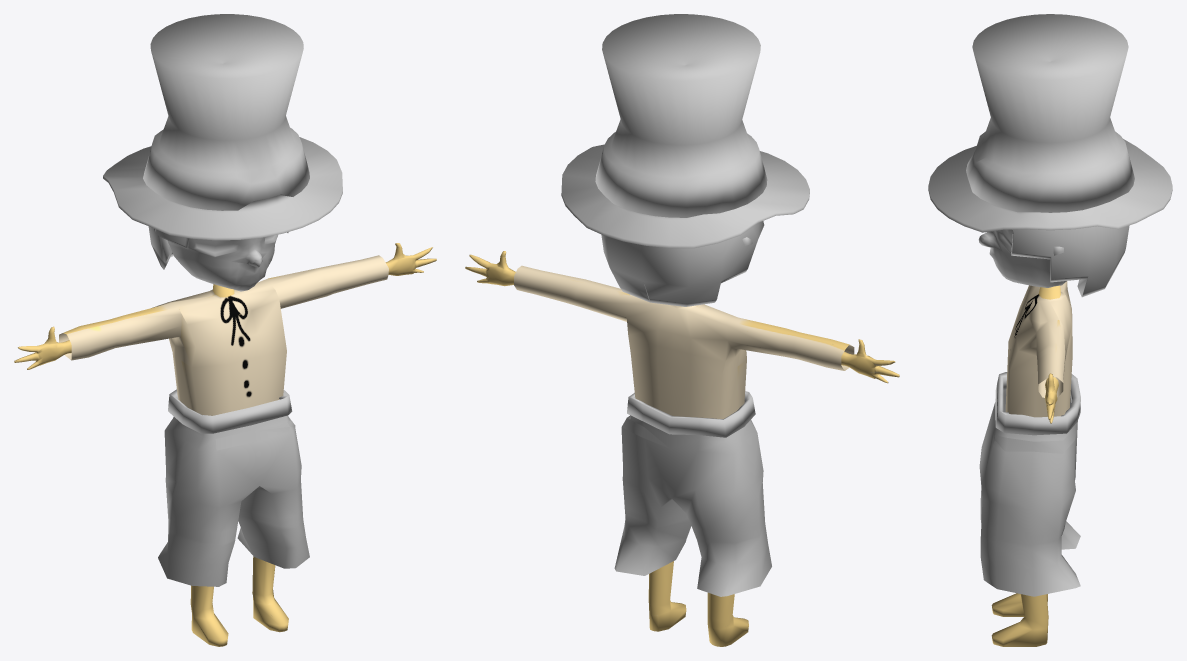
File: CH_Geoffrey.fbx
3 renders of one model, left to right at view 1: azimuth 30°, elevation 25°; view 2: azimuth 150°, elevation 25°; view 3: azimuth 270°, elevation 25°, orthographic. The views are drawn at different scales.
Visible parts, largest first — view 1: CH_Belt; view 2: CH_Belt; view 3: CH_Belt.
Part boxes in pixels (x1,y1,x2,y2): CH_Belt: (14, 14, 436, 646); CH_Belt: (465, 14, 899, 646); CH_Belt: (928, 14, 1172, 646).
Size of the model in its own units: 153 by 199 by 75.76.
